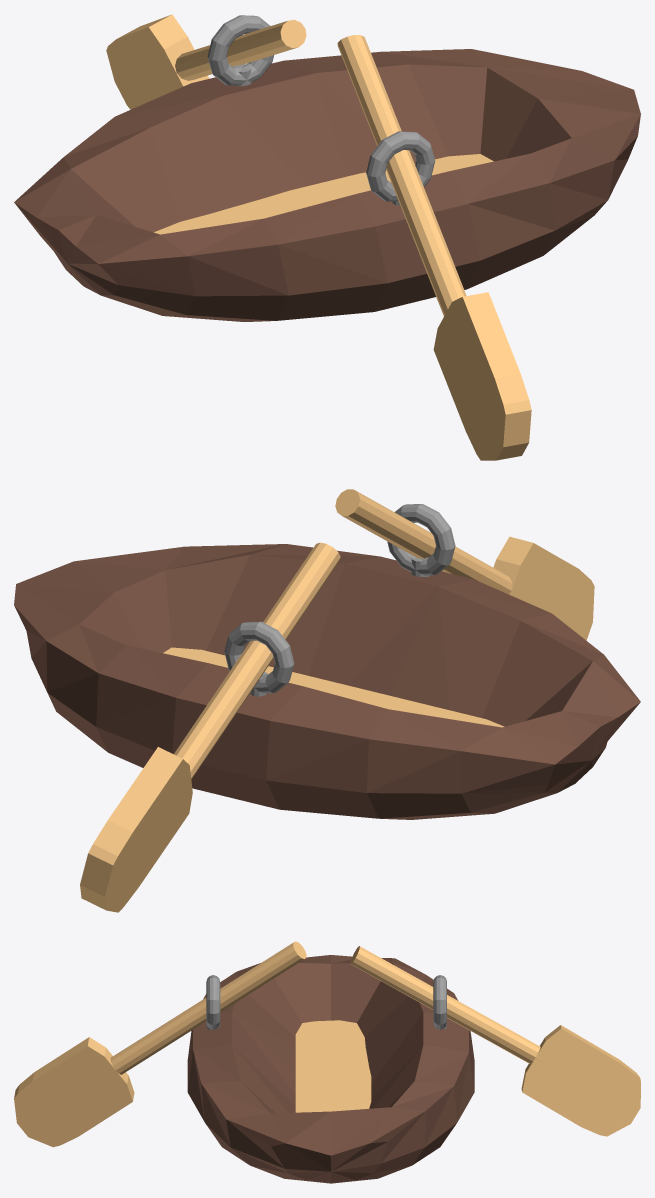
Rendered from scene_jYY8RjBtS8.glb.
The picture shows the model from 3 angles, top to bottom: view 1: azimuth 30°, elevation 25°; view 2: azimuth 150°, elevation 25°; view 3: azimuth 270°, elevation 25°; orthographic projection. The views are drawn at different scales.
Visible parts, largest first — view 1: group294172184, group1816098959, group1204176509, group173497400, group270303059, group92652493, group291373543, group2014285715; view 2: group294172184, group173497400, group92652493, group1816098959, group1204176509, group270303059, group2014285715, group291373543; view 3: group294172184, group173497400, group1816098959, group270303059, group1204176509, group92652493, group291373543, group2014285715.
Part boxes in pixels (x1,y1,x2,y2): group294172184: (14,49,640,321); group1816098959: (433,292,531,460); group1204176509: (337,35,466,315); group173497400: (106,14,209,109); group270303059: (154,154,493,234); group92652493: (175,19,306,80); group291373543: (366,131,435,201); group2014285715: (207,15,273,85); group294172184: (14,544,640,819); group173497400: (80,747,192,912); group92652493: (174,542,340,779); group1816098959: (493,536,594,640); group1204176509: (335,489,512,594); group270303059: (163,647,504,727); group2014285715: (224,621,294,693); group291373543: (387,504,455,575); group294172184: (187,955,474,1183); group173497400: (521,1025,640,1136); group1816098959: (14,1037,134,1147); group270303059: (295,1020,371,1112); group1204176509: (109,941,306,1074); group92652493: (350,946,546,1063); group291373543: (206,975,220,1029); group2014285715: (433,975,446,1029).
Bounding box in the file's own units: 0.6914 × 0.3374 × 0.912.
